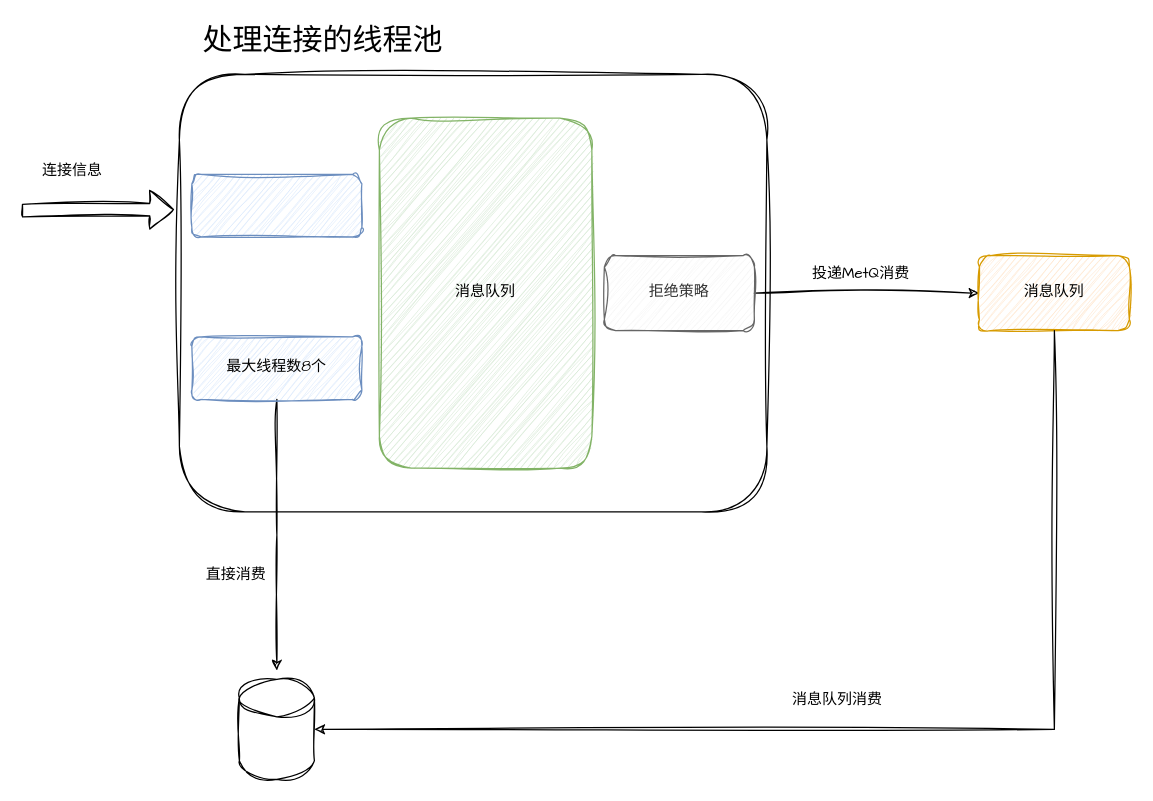
Image size: 1153x801. Some labels were removed from this diagram. Each missing label, with the centre of its shape:
redis: pixel 276 728
核心线程数4个: pixel 276 205
